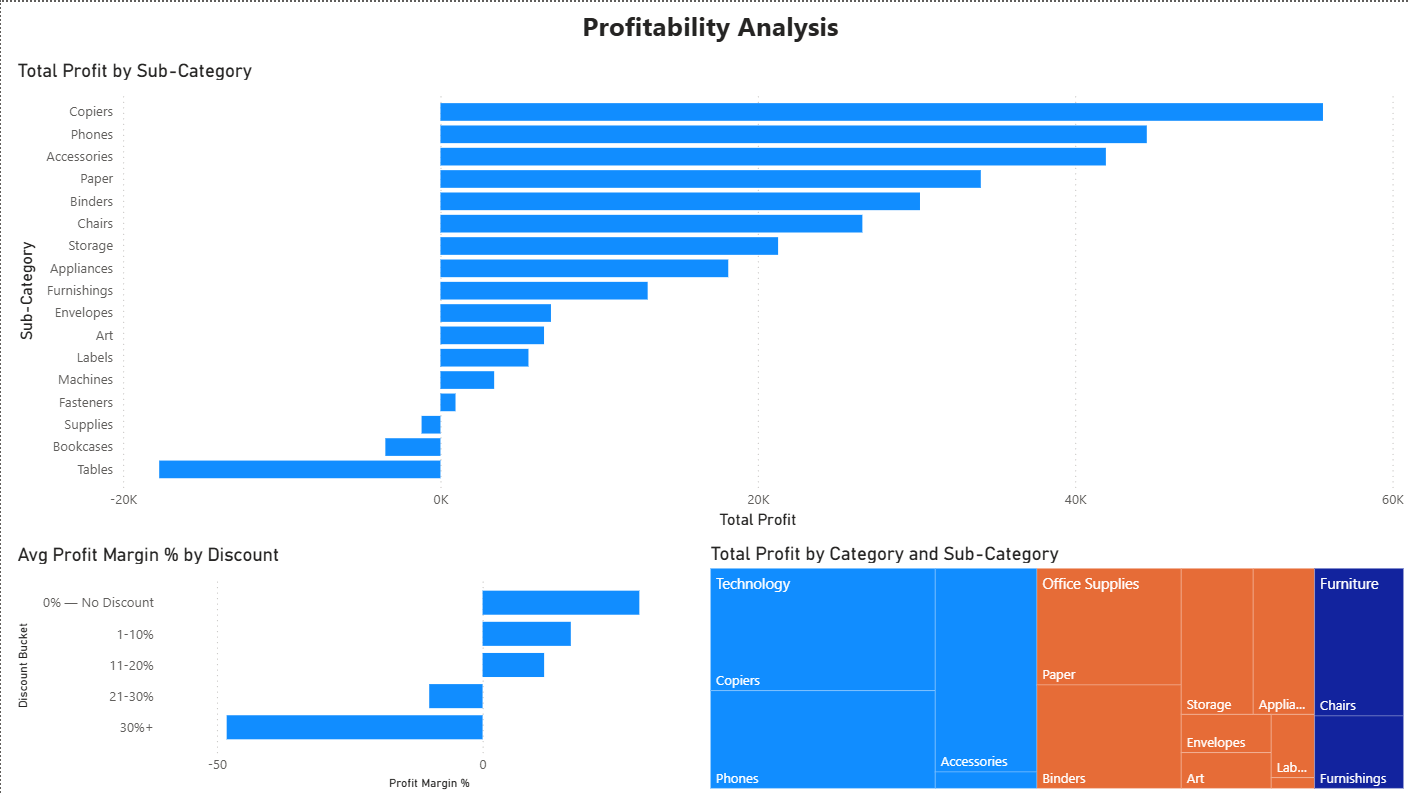

What the dashboard file says about the page in this screenshot:
{"tool":"powerbi","page":{"name":"Profitability Analysis","canvas":[1280,720],"ordinal":1},"visuals":[{"type":"textbox","box":[10,0,1270,51.4],"z":0},{"type":"clusteredBarChart","fields":{"Category":["superstore.Sub-Category"],"Y":["superstore.Total Profit"]},"box":[10,51.4,1270,431.4],"z":1000},{"type":"clusteredBarChart","title":"Avg Profit Margin % by Discount","fields":{"Y":["superstore.Profit Margin %"],"Category":["superstore.Discount Bucket"]},"box":[10,491.4,630,228.6],"z":2000},{"type":"treemap","fields":{"Group":["superstore.Category"],"Details":["superstore.Sub-Category"],"Values":["superstore.Total Profit"]},"box":[640,491,640,229],"z":3000}]}

Visuals, with their boxes in screenshot pixels (x1, y1, x2, y2), scaled from the page's 1280x720 canvas onto the 1409x793 screenshot:
textbox: x1=11 y1=0 x2=1408 y2=57
clusteredBarChart - superstore.Sub-Category x superstore.Total Profit: x1=11 y1=57 x2=1408 y2=532
"Avg Profit Margin % by Discount" clusteredBarChart: x1=11 y1=541 x2=704 y2=792
treemap - superstore.Category x superstore.Sub-Category: x1=704 y1=541 x2=1408 y2=792
